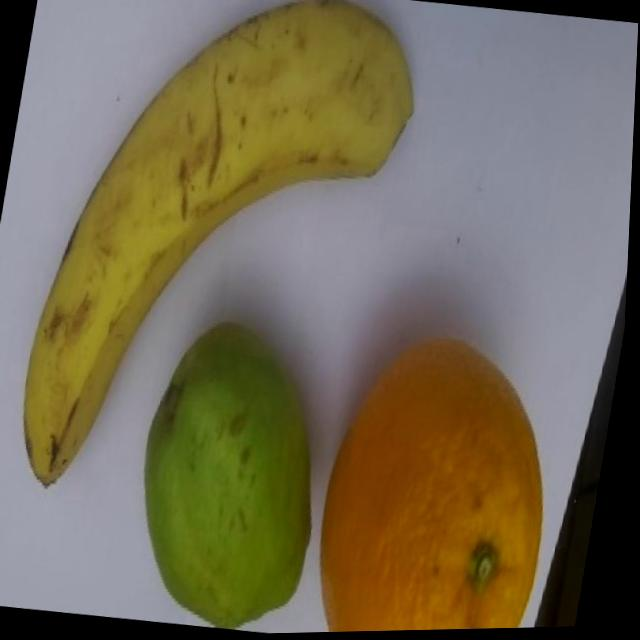Banana: (11, 0, 432, 524)
Orange: (309, 325, 578, 634)
